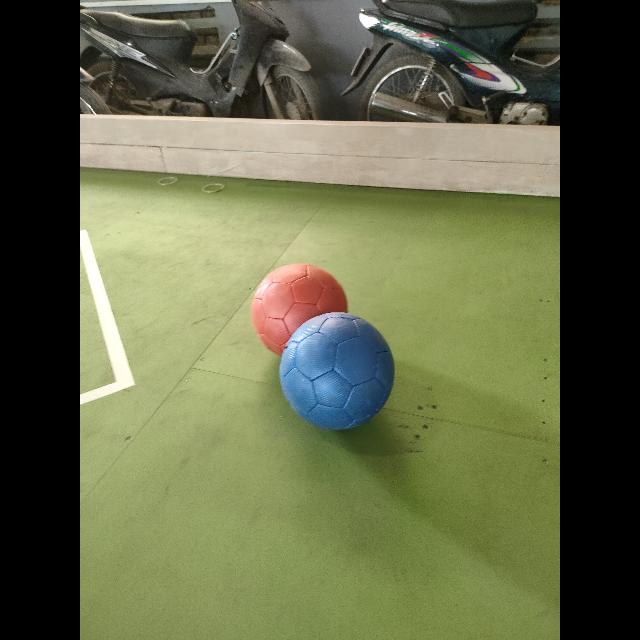B: (278, 313, 396, 434)
R: (250, 264, 349, 358)
